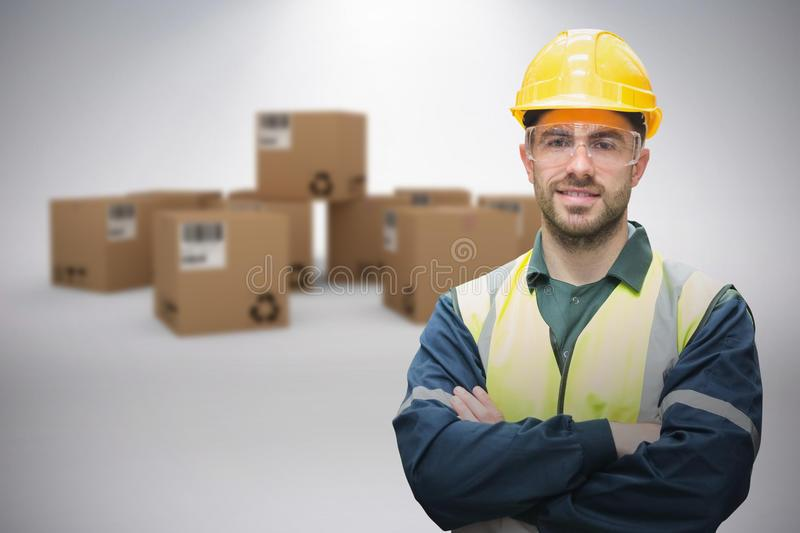helmet: (509, 28, 666, 143)
